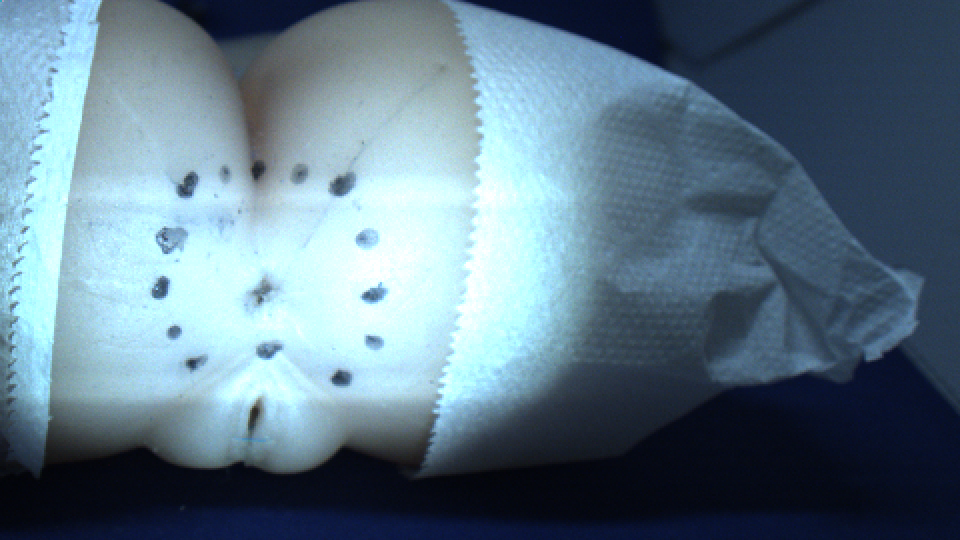asarp_marker: (321, 165, 366, 200), (150, 226, 198, 253), (347, 221, 385, 254), (253, 338, 288, 370), (169, 169, 198, 204), (358, 280, 392, 306), (360, 328, 389, 353), (183, 352, 215, 374), (243, 160, 272, 184), (325, 371, 359, 391), (150, 277, 176, 300), (161, 319, 182, 344), (217, 163, 237, 189), (286, 163, 308, 186)
